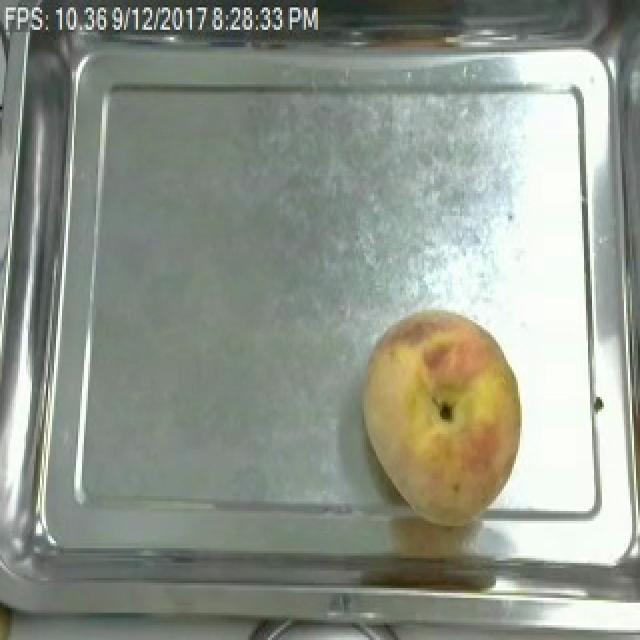Fruit: (352, 303, 532, 528)
